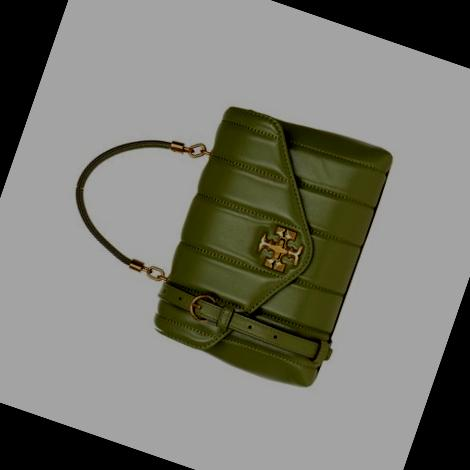TORY-BURCH: (252, 220, 308, 275)
